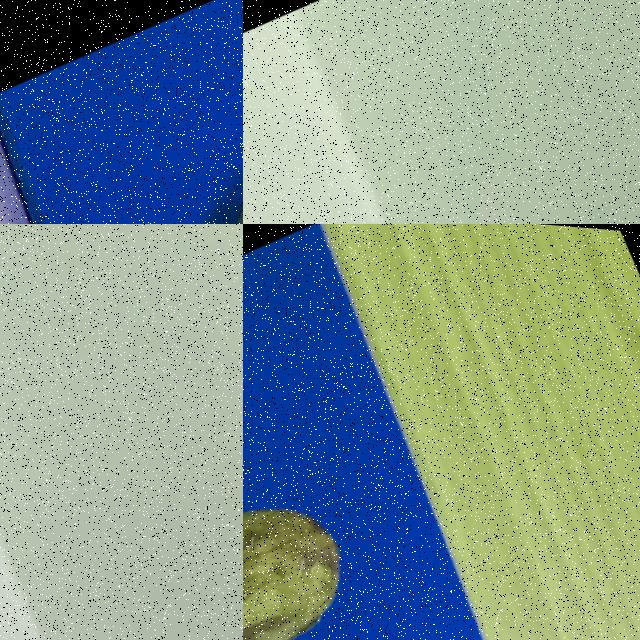Fine_cocoabeans: (243, 328, 458, 639), (72, 0, 242, 223)
Flat_cocoabeans: (243, 87, 560, 223), (0, 388, 101, 639)
